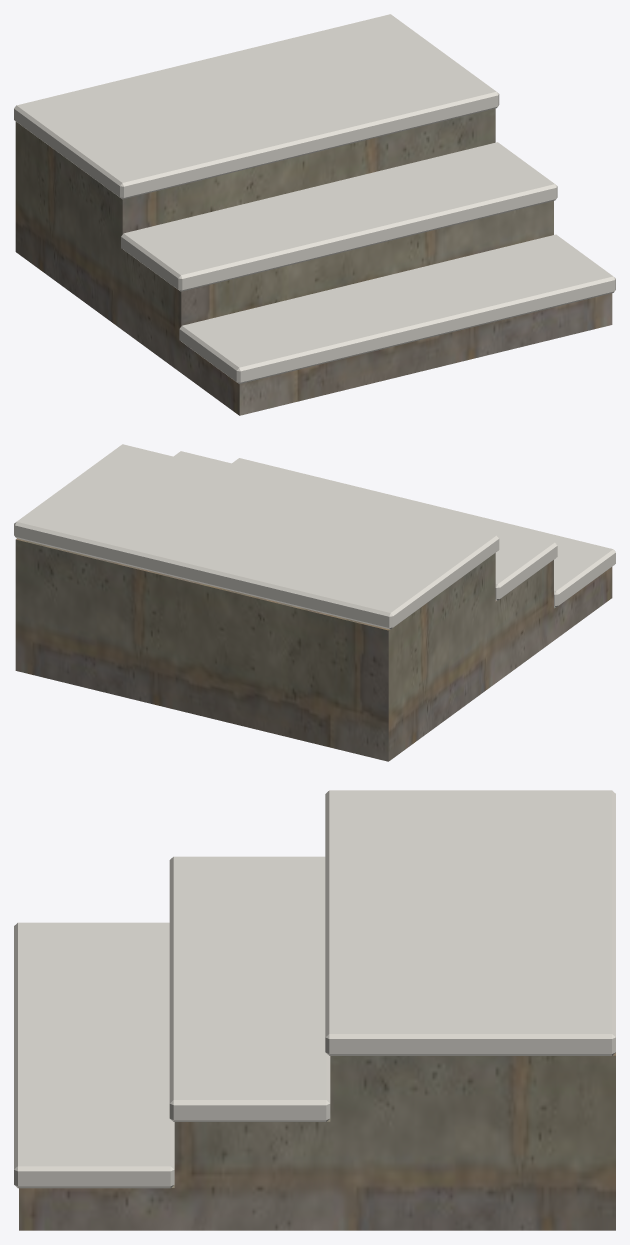
The model's file is service_steps.glb.
The picture shows the model from 3 angles, top to bottom: view 1: azimuth 30°, elevation 25°; view 2: azimuth 150°, elevation 25°; view 3: azimuth 270°, elevation 25°; orthographic projection. The views are drawn at different scales.
Parts seen in each view (by area): view 1: service_steps_cill, service_steps_stone; view 2: service_steps_stone, service_steps_cill; view 3: service_steps_cill, service_steps_stone.
Boxes of the visible parts, x1,y1,x2,y2 form: service_steps_cill: [14, 14, 615, 383]; service_steps_stone: [15, 108, 612, 415]; service_steps_stone: [15, 538, 612, 761]; service_steps_cill: [14, 444, 615, 629]; service_steps_cill: [14, 790, 615, 1188]; service_steps_stone: [19, 1053, 615, 1230].
Bounding box in the file's own units: 1.2 × 0.447 × 1.24.
Materials: 2 (1 with a texture image).
